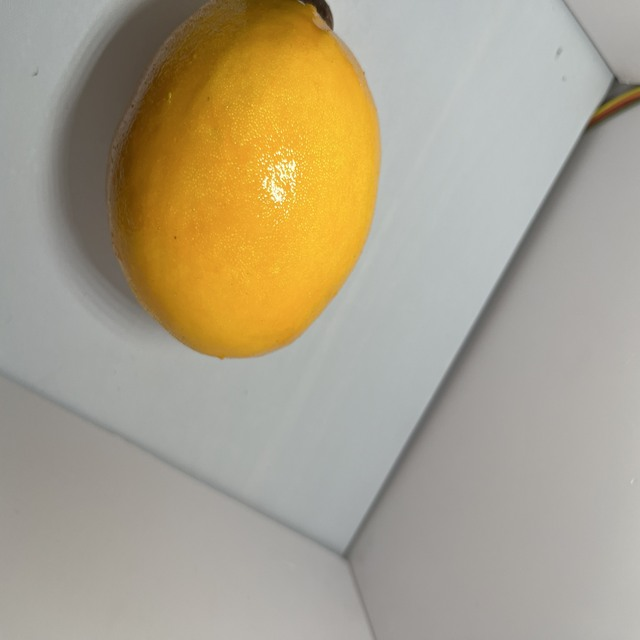Cam vang: (104, 0, 387, 367)
